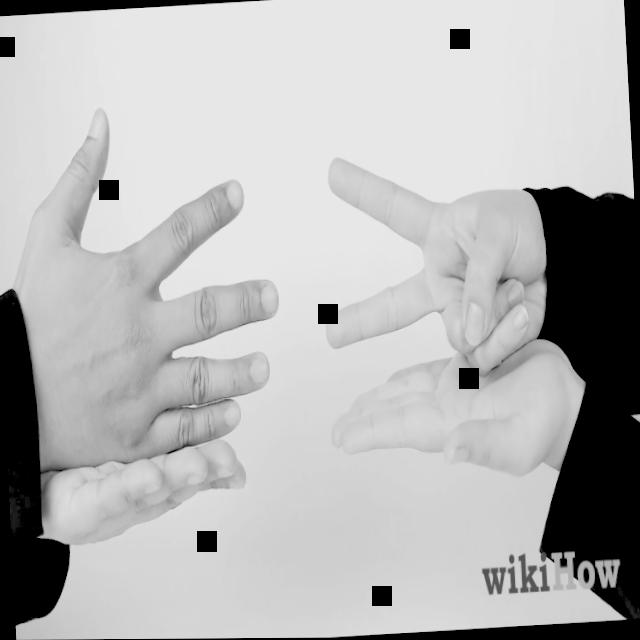Paper: (5, 97, 288, 471)
Scissors: (315, 145, 553, 386)
